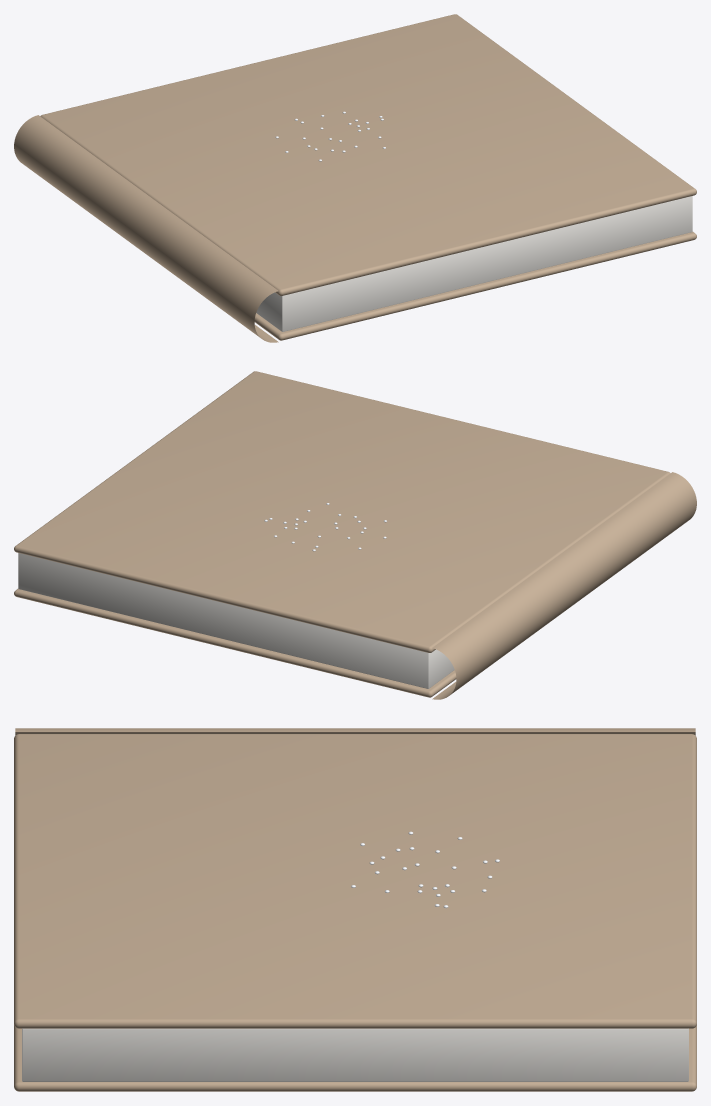
Rendered from swarovski-cluster--square.glb.
3 renders of one model, top to bottom at view 1: azimuth 30°, elevation 25°; view 2: azimuth 150°, elevation 25°; view 3: azimuth 270°, elevation 25°, orthographic. The views are drawn at different scales.
Parts seen in each view (by area): view 1: CoverFront, Pages, Spine, CoverBack; view 2: CoverFront, Pages, Spine, CoverBack; view 3: CoverFront, Pages, CoverBack, Spine.
Part boxes in pixels (left/top/right/bottom): CoverFront: left=40, top=14, right=696, bottom=295; Pages: left=256, top=196, right=692, bottom=331; Spine: left=14, top=115, right=278, bottom=342; CoverBack: left=254, top=232, right=696, bottom=340; CoverFront: left=14, top=371, right=670, bottom=652; Pages: left=18, top=553, right=454, bottom=688; Spine: left=432, top=472, right=696, bottom=699; CoverBack: left=14, top=589, right=456, bottom=697; CoverFront: left=14, top=734, right=696, bottom=1028; Pages: left=22, top=1028, right=688, bottom=1081; CoverBack: left=14, top=1025, right=696, bottom=1091; Spine: left=15, top=728, right=695, bottom=735.
Size of the model in its own units: 0.3179 by 0.036 by 0.3.
